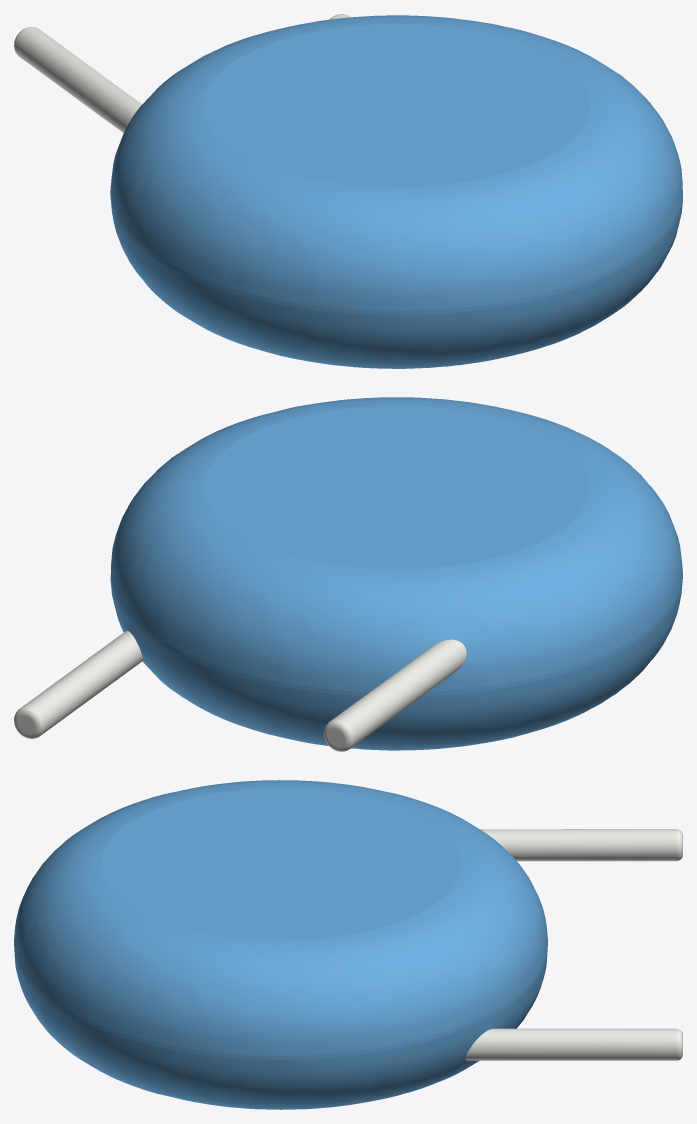
Rendered from RV_Disc_D12mm_W4mm_P7.5mm.glb.
3 views of the same model, one above another, from view 1: azimuth 30°, elevation 25°; view 2: azimuth 150°, elevation 25°; view 3: azimuth 270°, elevation 25° (orthographic). The views are drawn at different scales.
Visible parts, largest first — view 1: Shape_IndexedFaceSet.001, Shape_IndexedFaceSet.003, Shape_IndexedFaceSet.002, Shape_IndexedFaceSet.004, Shape_IndexedFaceSet; view 2: Shape_IndexedFaceSet.001, Shape_IndexedFaceSet.003, Shape_IndexedFaceSet.002, Shape_IndexedFaceSet.004, Shape_IndexedFaceSet.006, Shape_IndexedFaceSet, Shape_IndexedFaceSet.007, Shape_IndexedFaceSet.008; view 3: Shape_IndexedFaceSet.001, Shape_IndexedFaceSet.003, Shape_IndexedFaceSet.002, Shape_IndexedFaceSet.006, Shape_IndexedFaceSet.004, Shape_IndexedFaceSet.
Boxes of the visible parts, <box> form: Shape_IndexedFaceSet.001: <box>110,15,682,310</box>; Shape_IndexedFaceSet.003: <box>203,24,589,187</box>; Shape_IndexedFaceSet.002: <box>110,196,682,368</box>; Shape_IndexedFaceSet.004: <box>15,27,141,132</box>; Shape_IndexedFaceSet: <box>110,192,682,315</box>; Shape_IndexedFaceSet.001: <box>110,397,682,691</box>; Shape_IndexedFaceSet.003: <box>203,406,589,568</box>; Shape_IndexedFaceSet.002: <box>110,578,682,750</box>; Shape_IndexedFaceSet.004: <box>332,639,466,747</box>; Shape_IndexedFaceSet.006: <box>21,630,142,734</box>; Shape_IndexedFaceSet: <box>110,574,682,696</box>; Shape_IndexedFaceSet.007: <box>324,719,354,751</box>; Shape_IndexedFaceSet.008: <box>14,706,44,738</box>; Shape_IndexedFaceSet.001: <box>14,780,547,1055</box>; Shape_IndexedFaceSet.003: <box>101,788,460,940</box>; Shape_IndexedFaceSet.002: <box>15,958,546,1109</box>; Shape_IndexedFaceSet.006: <box>465,1028,676,1060</box>; Shape_IndexedFaceSet.004: <box>480,829,676,861</box>; Shape_IndexedFaceSet: <box>14,942,547,1059</box>.
Bounding box in the file's own units: 4.72 × 1.58 × 5.92.
